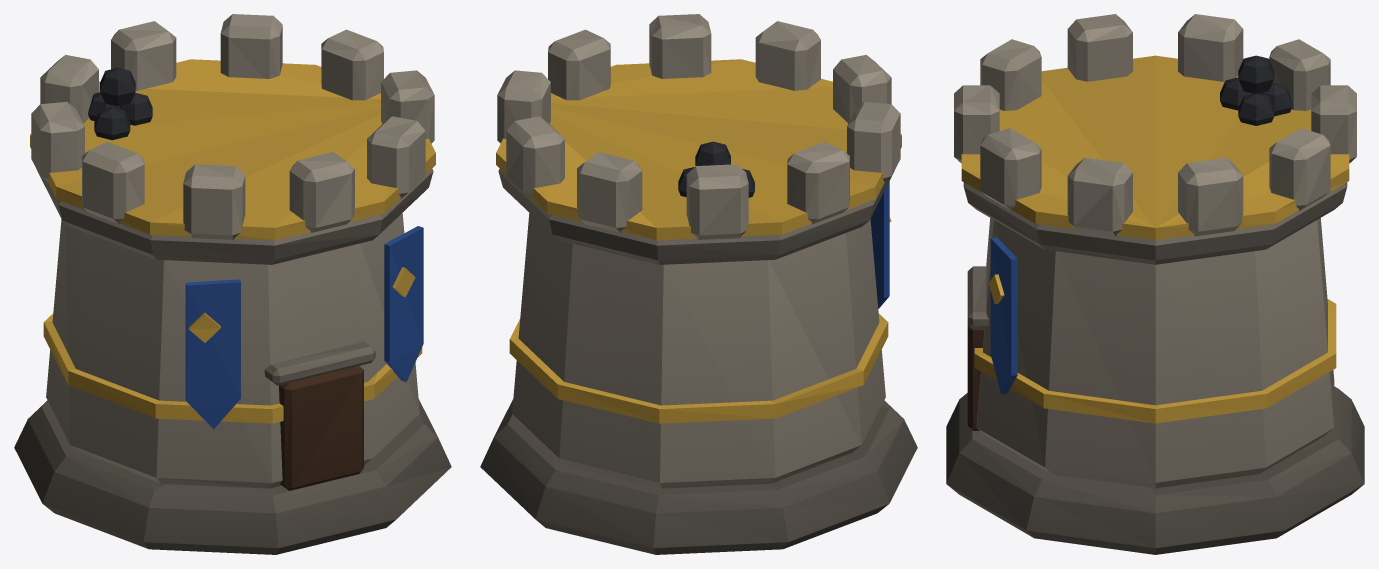
The model's file is cannon_tower_2.glb.
3 renders of one model, left to right at view 1: azimuth 30°, elevation 25°; view 2: azimuth 150°, elevation 25°; view 3: azimuth 270°, elevation 25°, orthographic.
Parts seen in each view (by area): view 1: cannon_tower_2; view 2: cannon_tower_2; view 3: cannon_tower_2.
Boxes of the visible parts, bbox=[...] form: cannon_tower_2: bbox=[14, 14, 451, 554]; cannon_tower_2: bbox=[480, 14, 917, 554]; cannon_tower_2: bbox=[946, 14, 1364, 554].
Bounding box in the file's own units: 0.96 × 0.915 × 0.913.
